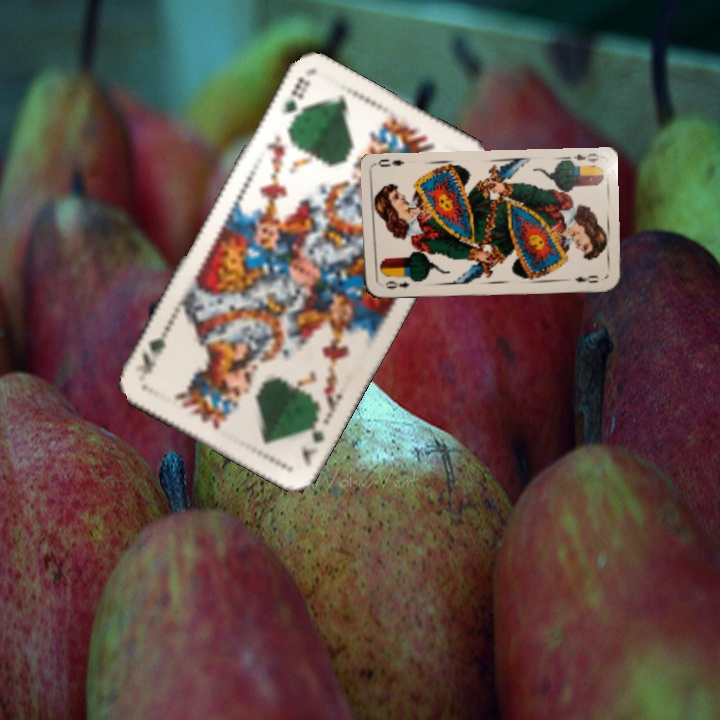EO: (562, 149, 602, 169), (382, 277, 412, 292)
GK: (296, 411, 328, 468), (280, 73, 313, 118)
